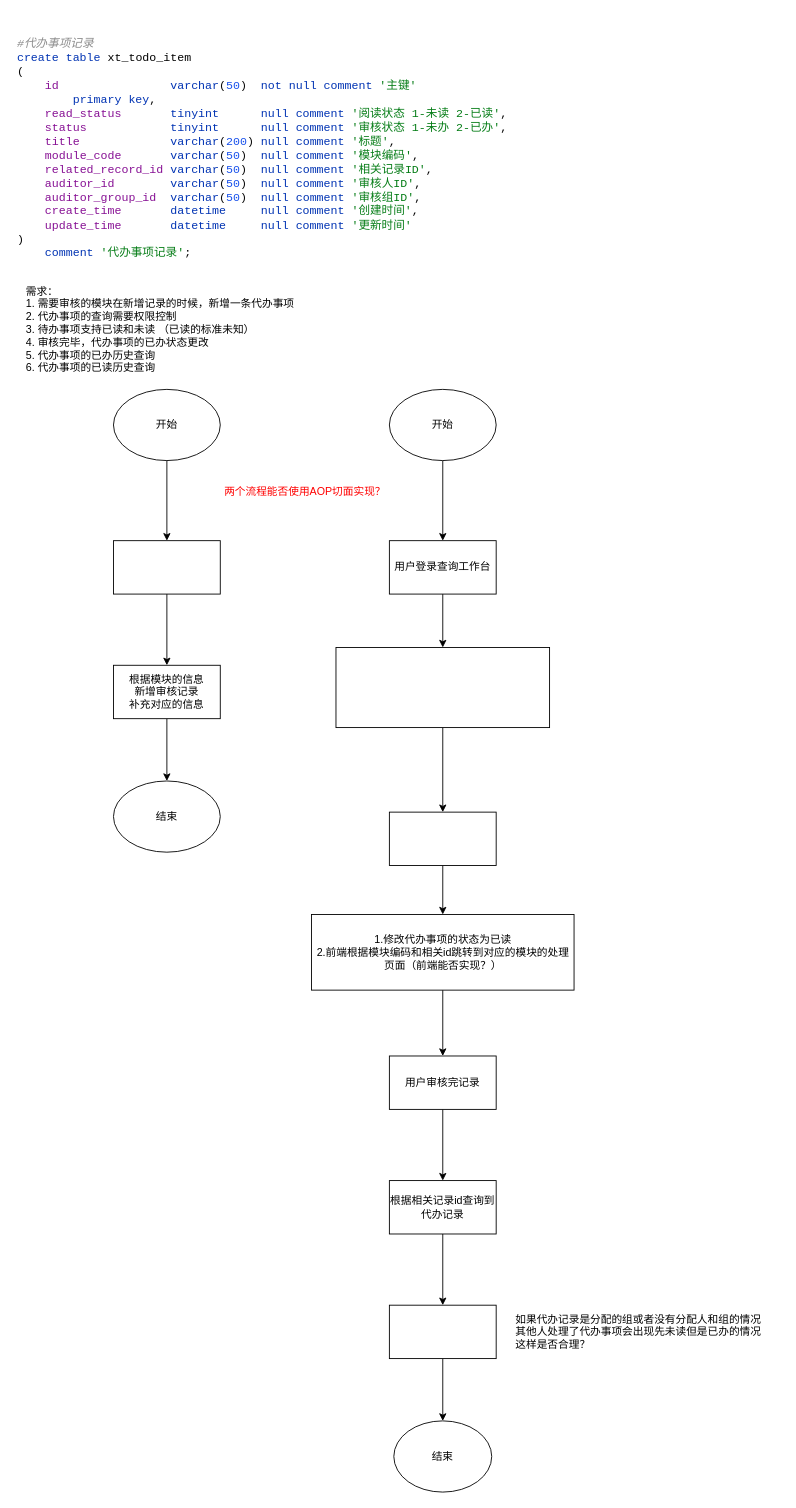
Image size: 796x1508. Some labels were removed from this diagram. Here are the shapes that lost their labels. From the top down, the centre of each, then its label:
At point (166, 567): "xx模块 新增记录，需要审核".
At point (442, 687): "1.根据用户的id查询代办事项 2.根据用户的部门id查询代办事项 3.查询用户id和部门id都为空的待办事项 4.整合上面的三种待办事项，返回".
At point (442, 838): "用户点击待办事项".
At point (442, 1331): "修改代办记录的状态为已办".
